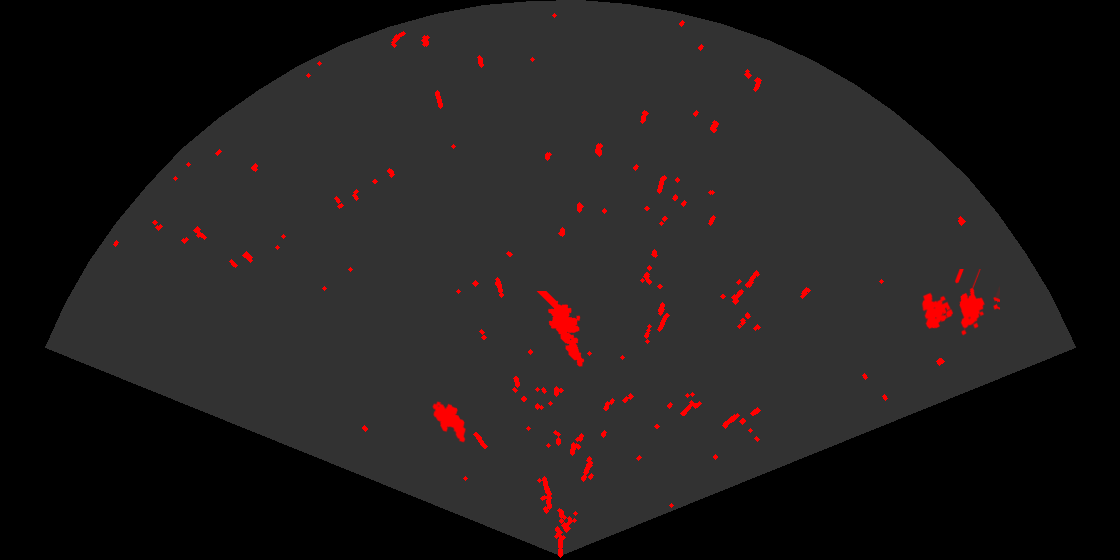AUV: (431, 400, 467, 444)
cage: (920, 269, 1000, 337)
frogman: (535, 291, 586, 368)
